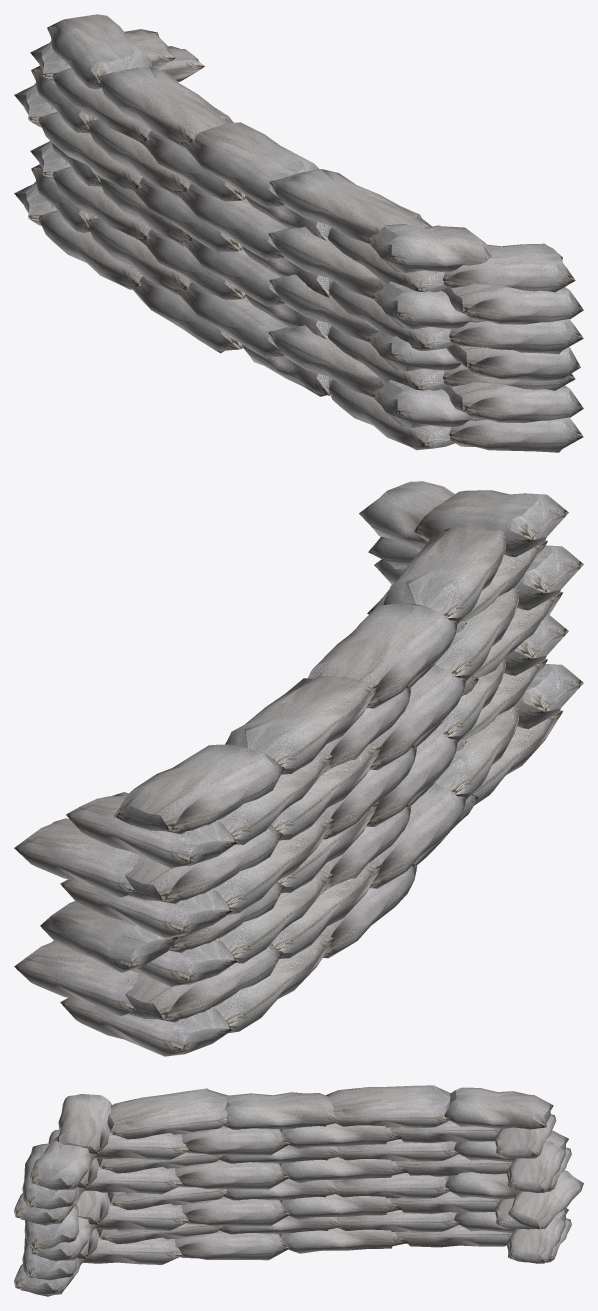
File: bags2.FBX
3 renders of one model, top to bottom at view 1: azimuth 30°, elevation 25°; view 2: azimuth 150°, elevation 25°; view 3: azimuth 270°, elevation 25°, orthographic. The views are drawn at different scales.
Visible parts, largest first — view 1: obj405; view 2: obj405; view 3: obj405.
Part boxes in pixels (x1,y1,x2,y2): obj405: (14, 14, 583, 452); obj405: (14, 481, 583, 1056); obj405: (14, 1085, 583, 1296).
Size of the model in its own units: 5.24 by 5.12 by 16.73.
